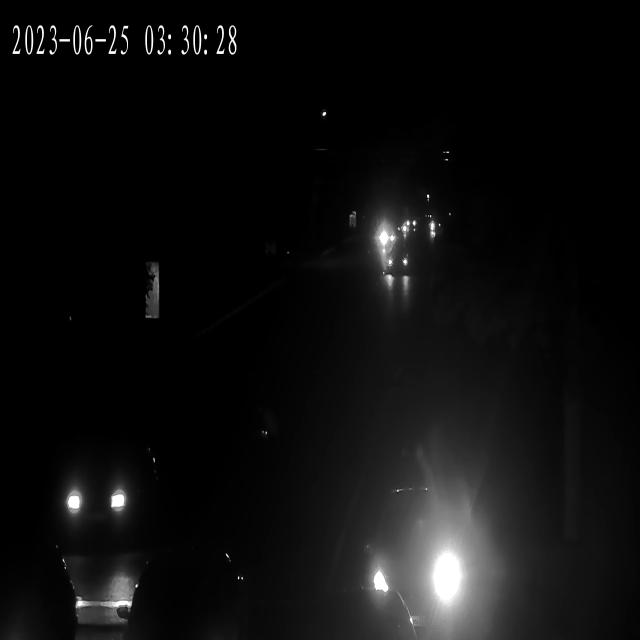Car: (350, 487, 472, 640), (118, 544, 250, 640), (55, 436, 159, 546), (0, 535, 75, 638), (0, 567, 74, 640), (378, 251, 407, 280), (379, 246, 408, 274), (370, 224, 396, 248), (372, 228, 397, 250), (400, 217, 419, 233), (399, 219, 417, 235), (396, 224, 412, 240), (397, 219, 414, 234)
